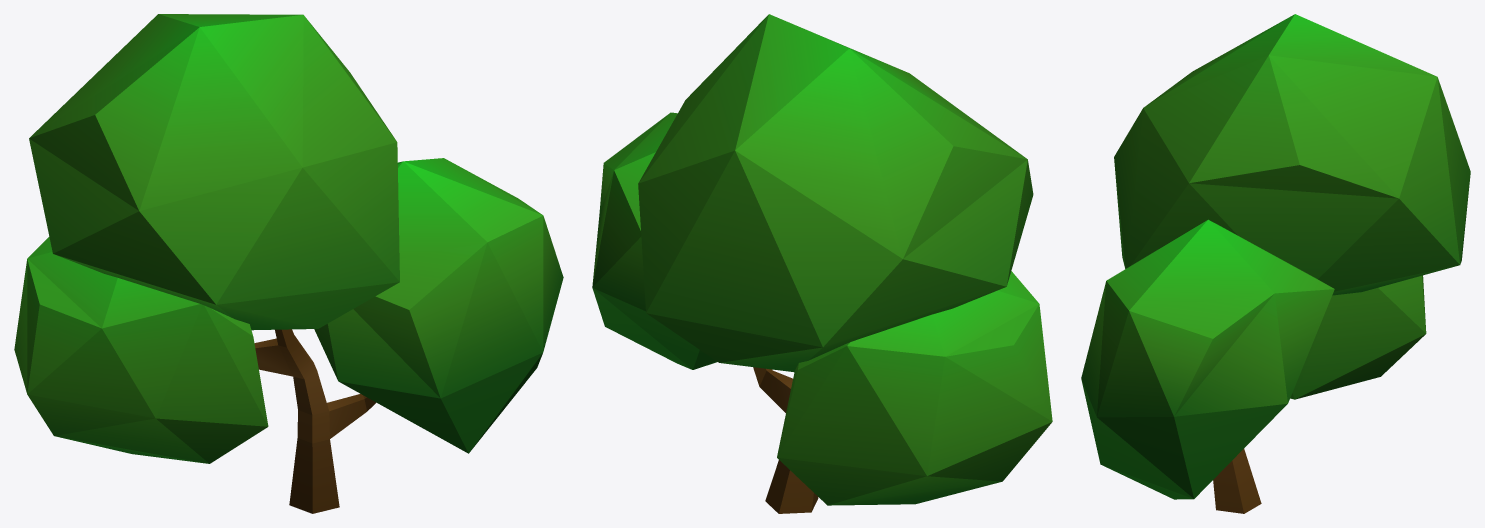
File: threeBushesWithTrunk.FBX
The picture shows the model from 3 angles, left to right: view 1: azimuth 30°, elevation 25°; view 2: azimuth 150°, elevation 25°; view 3: azimuth 270°, elevation 25°; orthographic projection. The views are drawn at different scales.
Visible parts, largest first — view 1: Cylinder011; view 2: Cylinder011; view 3: Cylinder011.
Boxes of the visible parts, bbox=[...] form: Cylinder011: bbox=[14, 14, 563, 513]; Cylinder011: bbox=[592, 14, 1052, 513]; Cylinder011: bbox=[1081, 14, 1470, 513].
Size of the model in its own units: 102 by 95.62 by 74.85.
